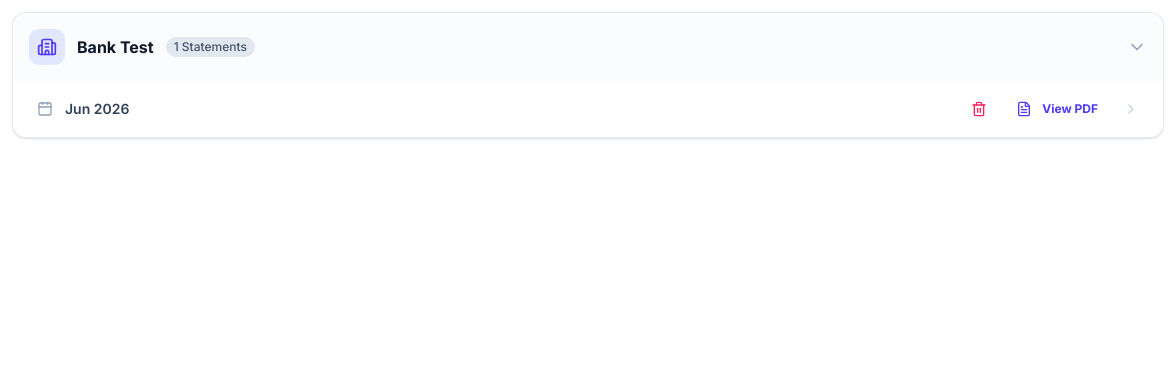
BankStatementList Component › allows delete item action from mobile drawer
Expected: the text "Jun 2026" is shown, left=65, top=99, right=129, bottom=119
Click the button "Jun 2026" at (97, 108), box left=37, top=99, right=963, bottom=119
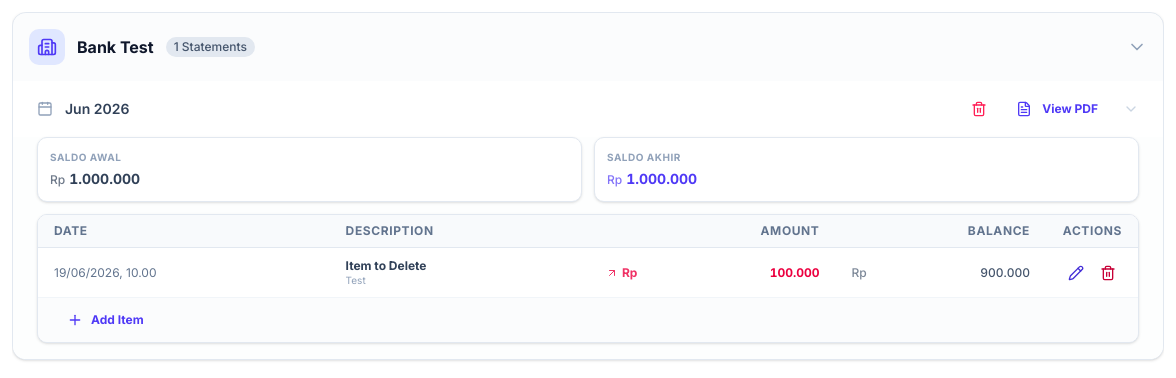
Expected: the text "Item to Delete" is shown, left=346, top=258, right=426, bottom=273
